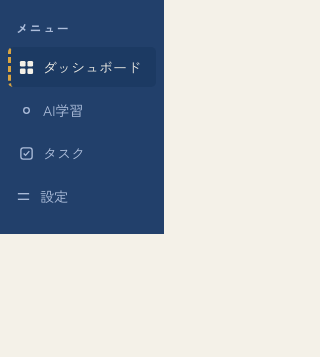
Sidebar › 設定配下でないルートでは初期状態でサブメニューが閉じており、クリックで開閉する
Expected: the link "色マスター" is not shown
Click the button "設定".
click(82, 196)  # box x1=8 y1=176 x2=156 y2=216
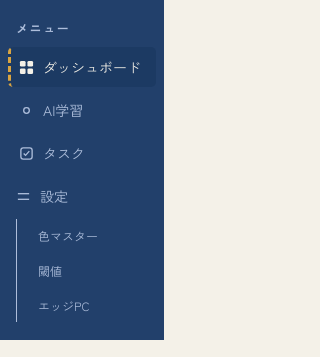
Expected: the link "色マスター" is shown, x1=38 y1=227 x2=98 y2=244
Click the button "設定".
click(82, 196)  # box x1=8 y1=176 x2=156 y2=216
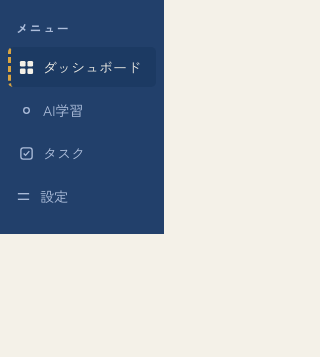
Expected: the link "色マスター" is gone
